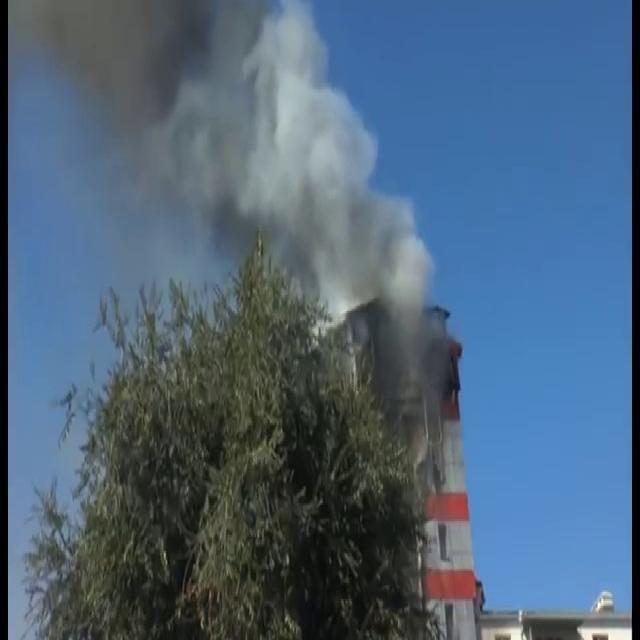Smoke: (8, 0, 459, 437)
